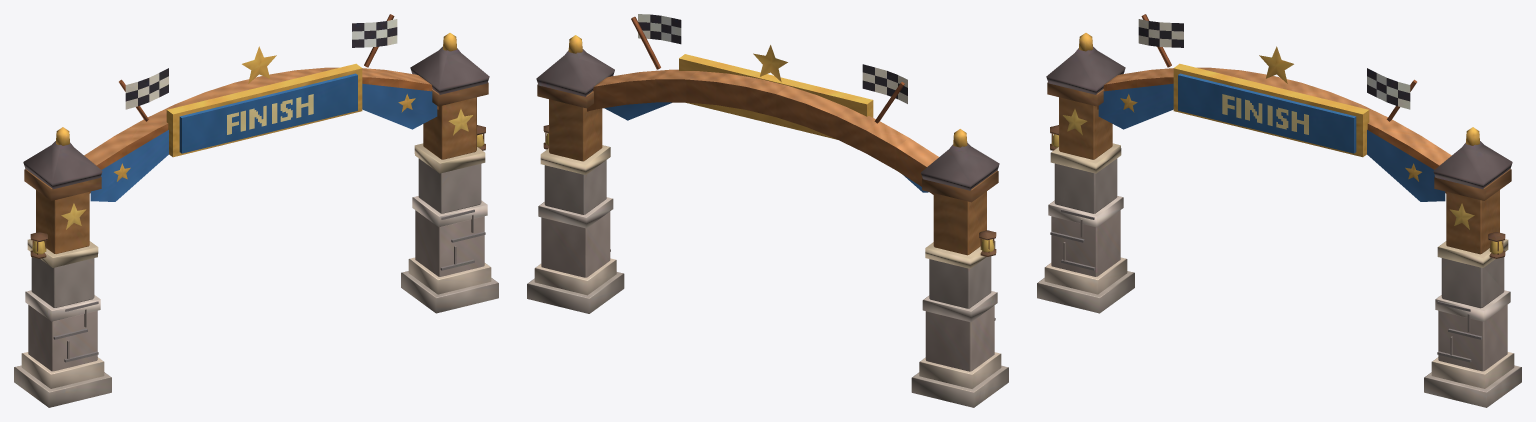
The model's file is race_finish_gate.glb.
The picture shows the model from 3 angles, left to right: view 1: azimuth 30°, elevation 25°; view 2: azimuth 150°, elevation 25°; view 3: azimuth 330°, elevation 25°; orthographic projection.
Parts seen in each view (by area): view 1: Body; view 2: Body; view 3: Body.
Boxes of the visible parts, x1,y1,x2,y2 form: Body: (14,14,498,407); Body: (527,14,1008,407); Body: (1037,14,1521,407).
Size of the model in its own units: 6.78 by 4.24 by 0.9059.
1 material, 1 textured.
